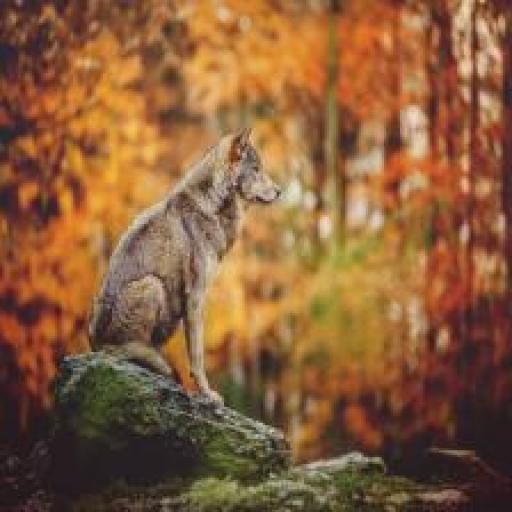wolf: (87, 128, 303, 402)
